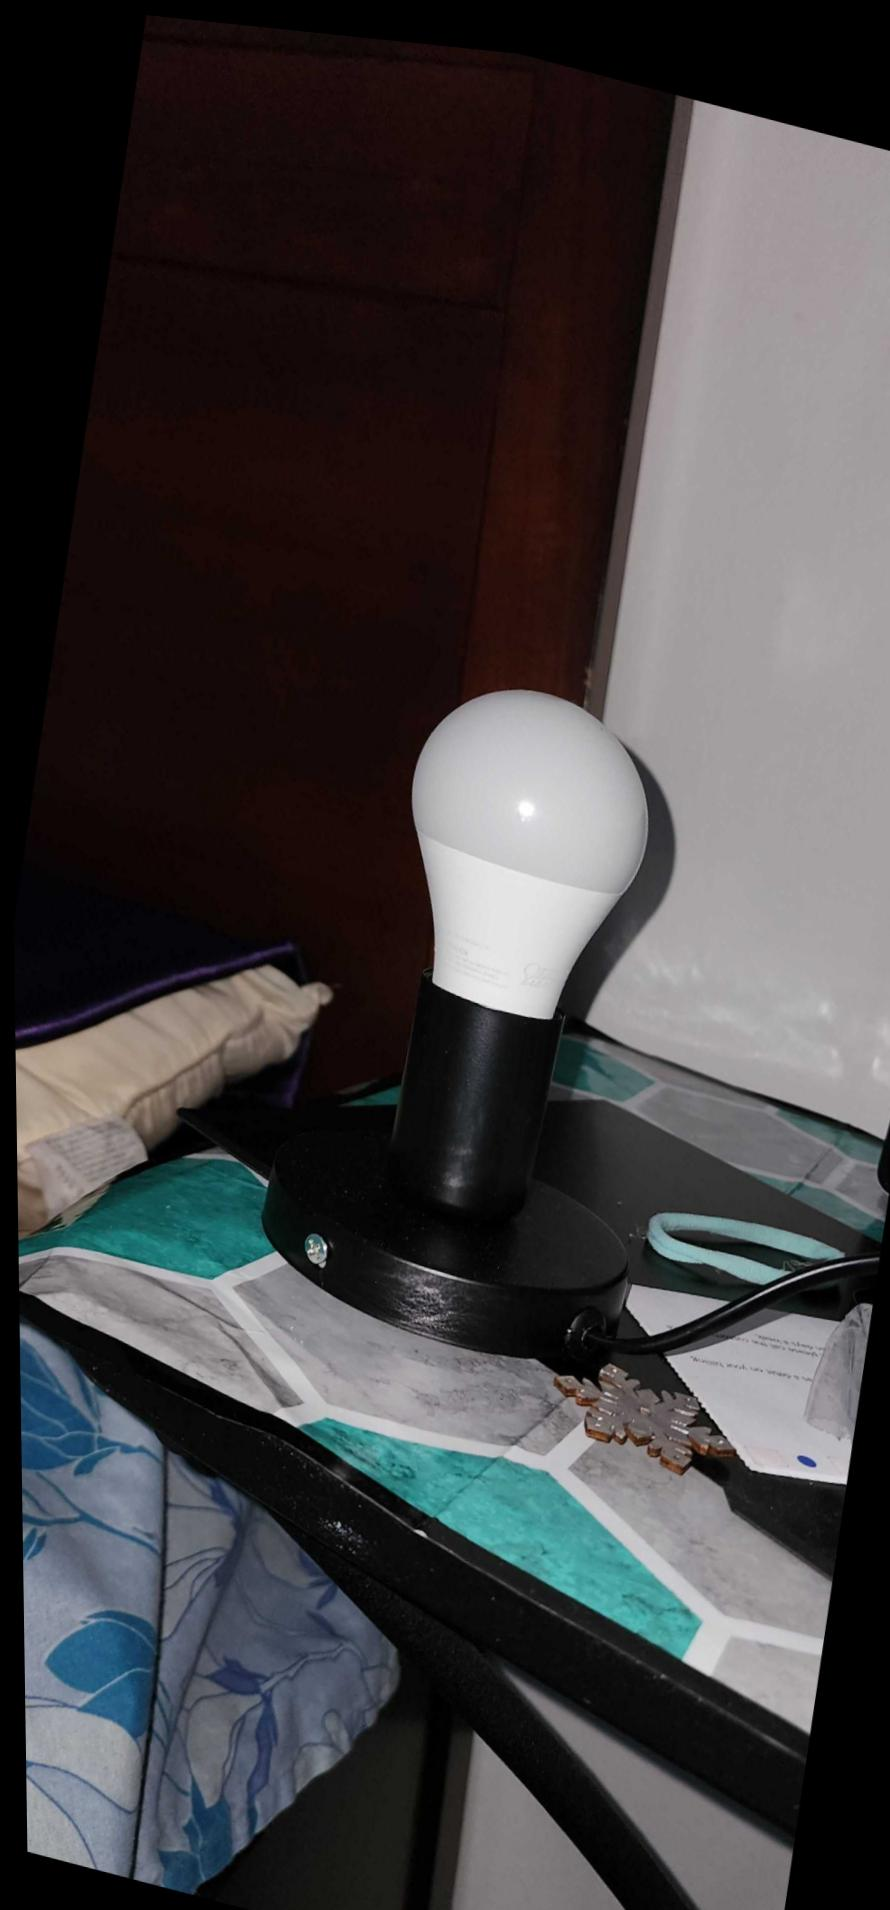Fan: (341, 643, 673, 1245)
